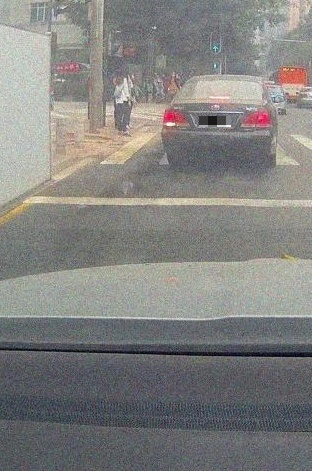L_light: (162, 109, 189, 128)
R_light: (241, 109, 270, 128)
T_light: (209, 96, 230, 99)
day-left: (161, 75, 272, 169)
plate_1: (199, 116, 231, 127)
